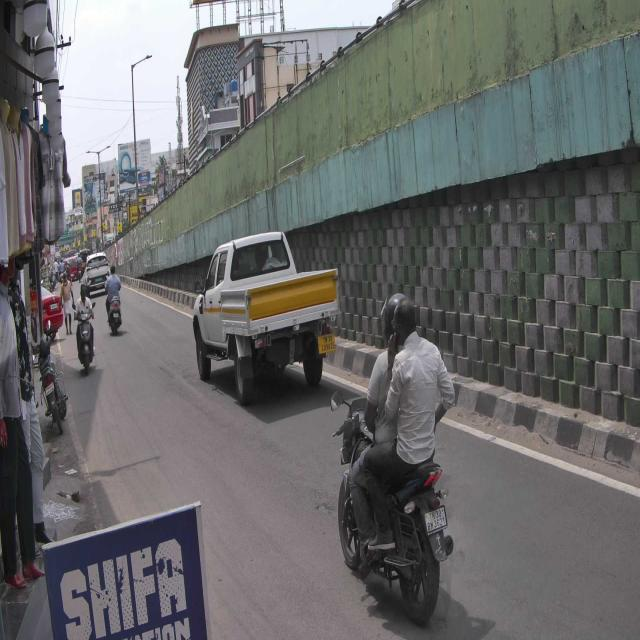double_rider: (331, 289, 454, 622)
